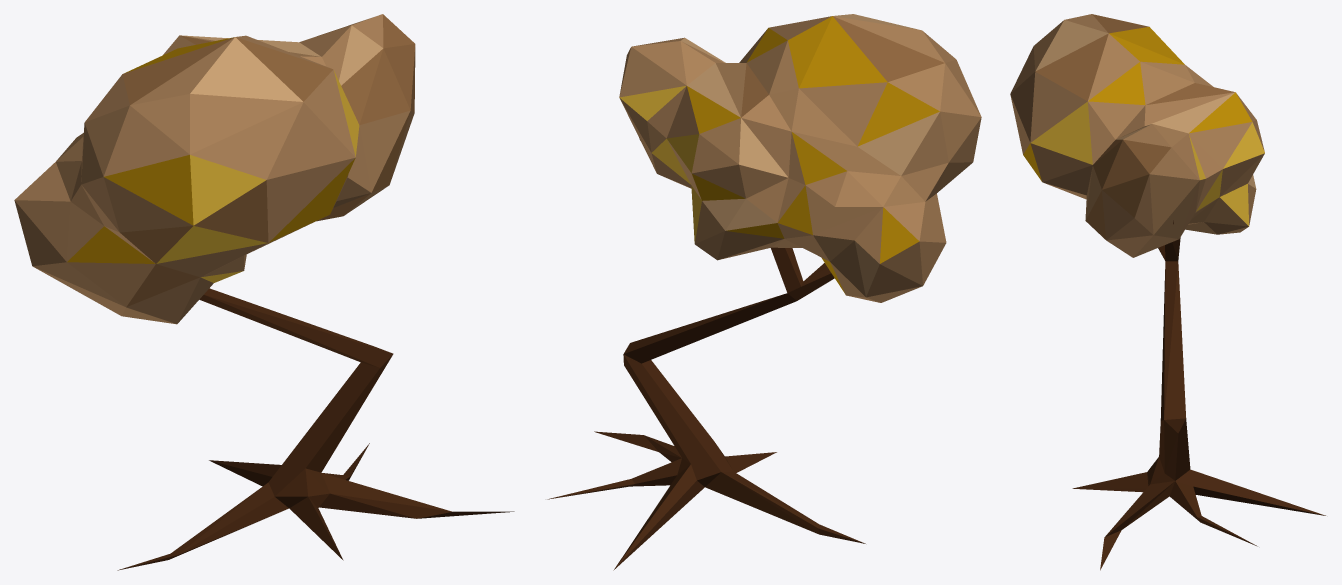
The model's file is Glade_Tree5.fbx.
3 views of the same model, side by side, from view 1: azimuth 30°, elevation 25°; view 2: azimuth 150°, elevation 25°; view 3: azimuth 270°, elevation 25° (orthographic). The views are drawn at different scales.
Visible parts, largest first — view 1: Icosphere.006; view 2: Icosphere.006; view 3: Icosphere.006.
Part boxes in pixels (x1,y1,x2,y2): Icosphere.006: [14, 14, 514, 570]; Icosphere.006: [547, 14, 981, 570]; Icosphere.006: [1010, 14, 1325, 570].
Size of the model in its own units: 303 by 367 by 240.
